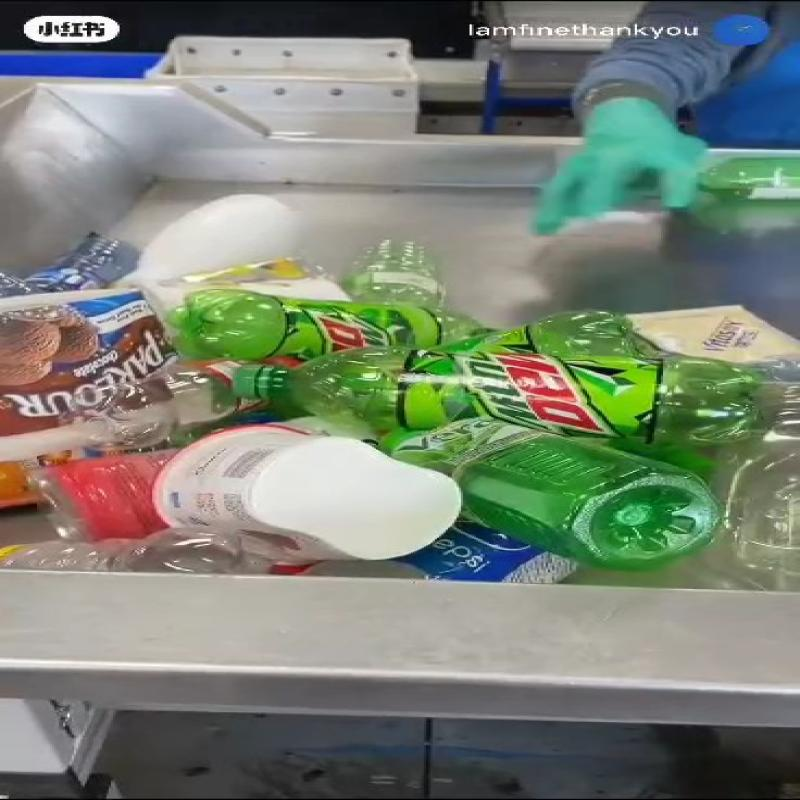botella: (235, 347, 758, 463), (374, 415, 720, 570), (177, 288, 491, 373), (32, 415, 193, 537), (724, 360, 800, 596), (0, 526, 280, 580), (434, 304, 658, 358), (326, 234, 452, 315)
